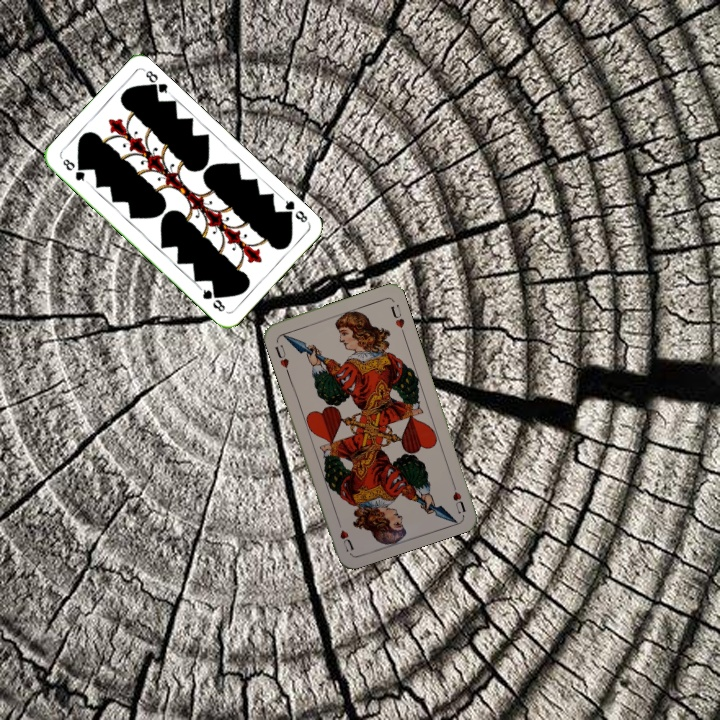G8: (278, 194, 311, 225), (58, 154, 87, 184)
HU: (447, 477, 468, 516), (271, 340, 292, 376)
